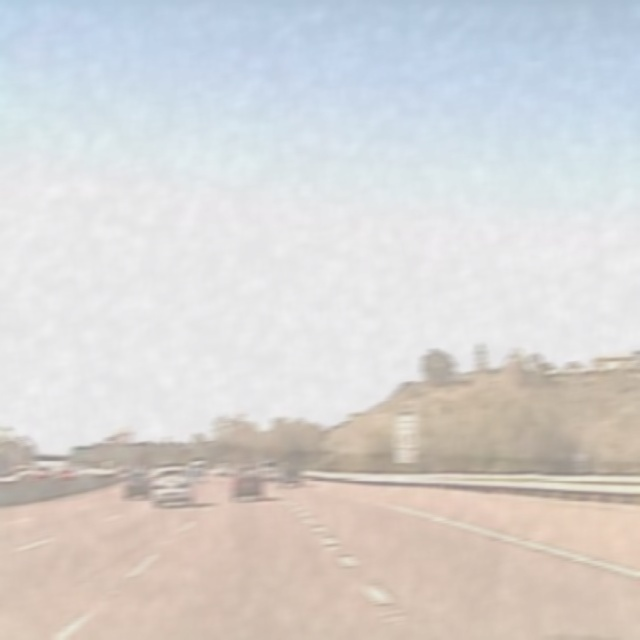speedLimit65: (396, 414, 416, 450)
